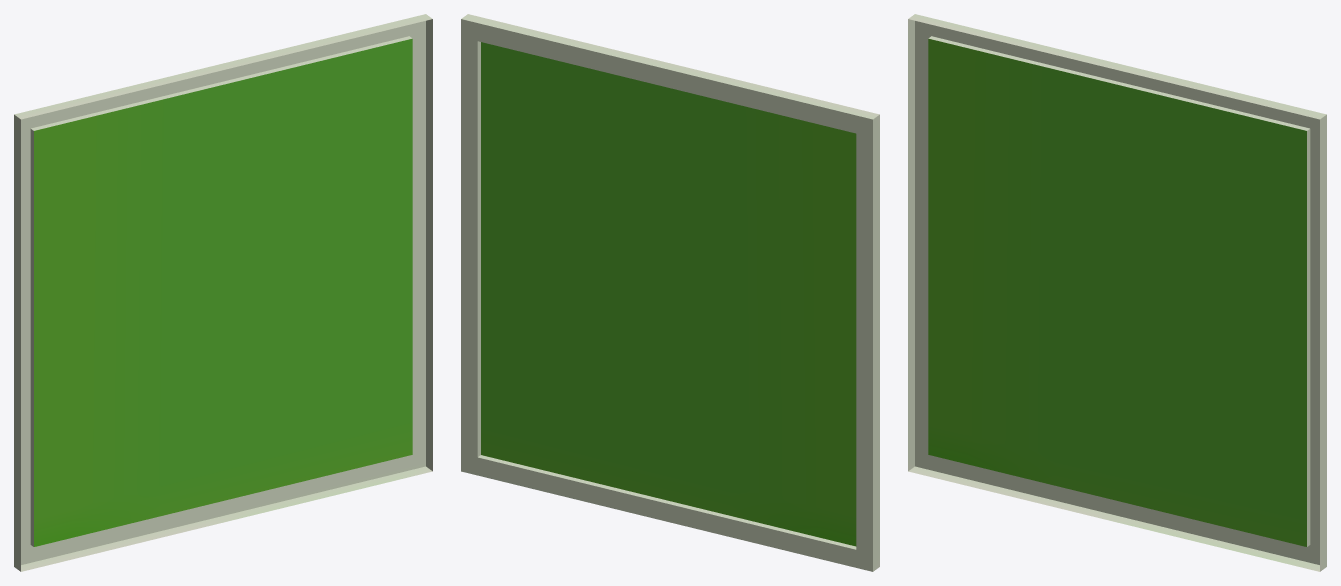
The model's file is CaoDi1_Mo.fbx.
3 renders of one model, left to right at view 1: azimuth 30°, elevation 25°; view 2: azimuth 150°, elevation 25°; view 3: azimuth 330°, elevation 25°, orthographic.
Parts seen in each view (by area): view 1: Box001; view 2: Box001; view 3: Box001.
Part boxes in pixels (box(x1,y1,x2,y2)): Box001: box(14, 14, 432, 571); Box001: box(461, 14, 879, 571); Box001: box(908, 14, 1326, 571).
Bounding box in the file's own units: 1812 × 1902 × 52.6.
1 material, 1 textured.
